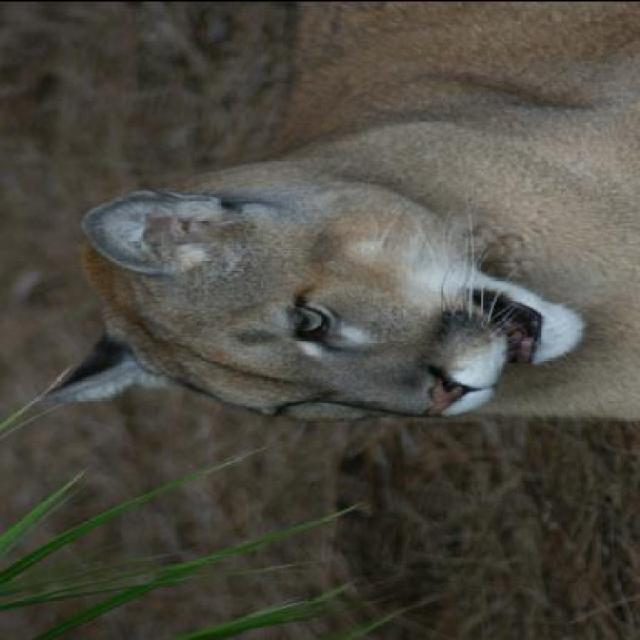Lion: (40, 2, 635, 490)
